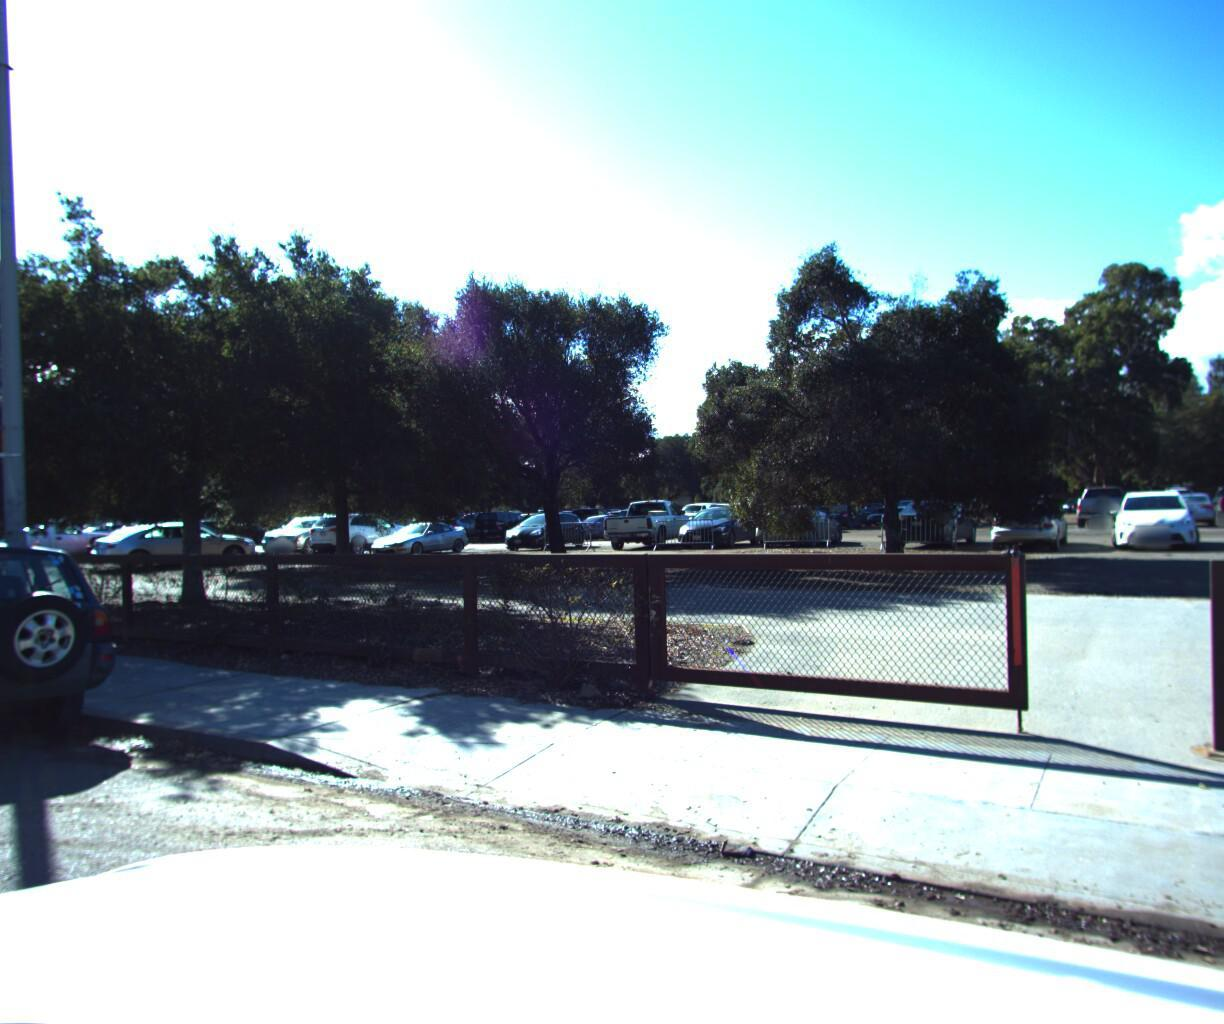car: (0, 505, 160, 814), (85, 515, 261, 571), (0, 507, 126, 564), (0, 513, 60, 566)
